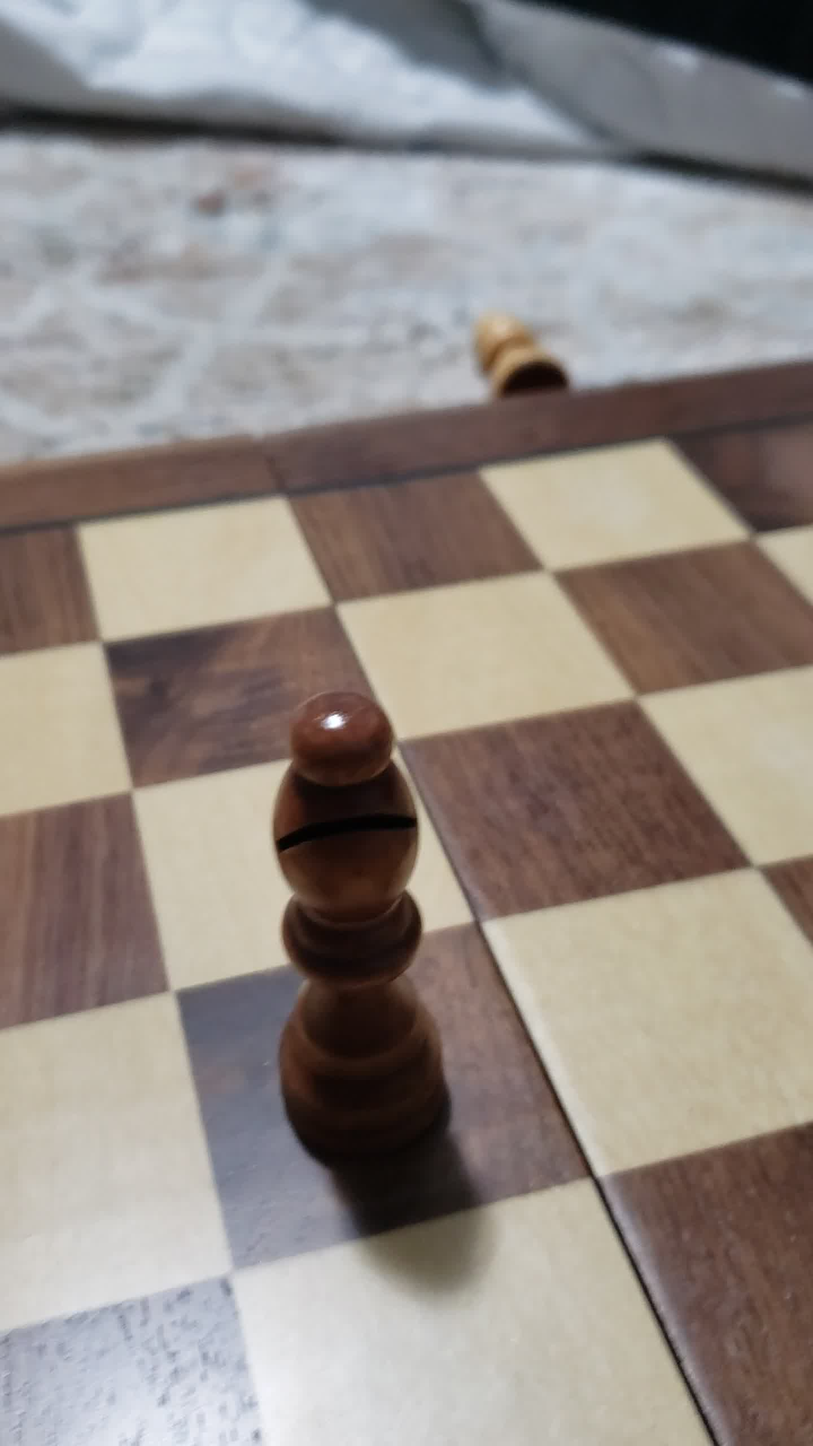black-bishop: (203, 667, 482, 1199)
